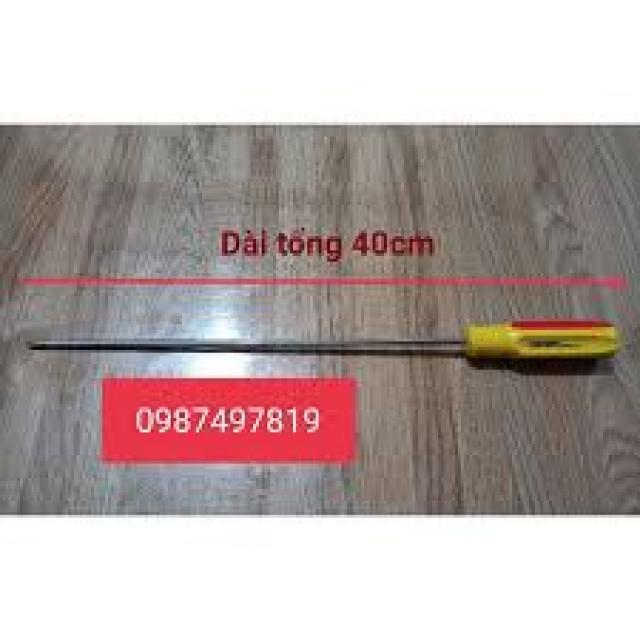screwdriver: (21, 314, 624, 372)
